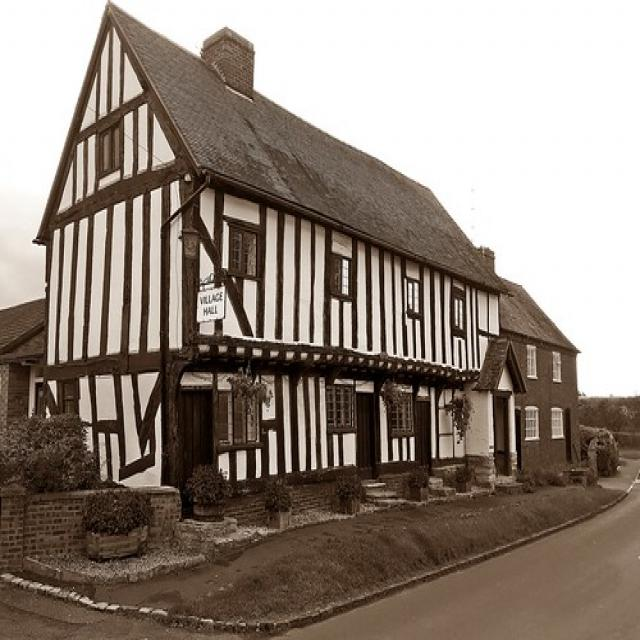Normal_building: (35, 3, 508, 550), (495, 275, 589, 491)
